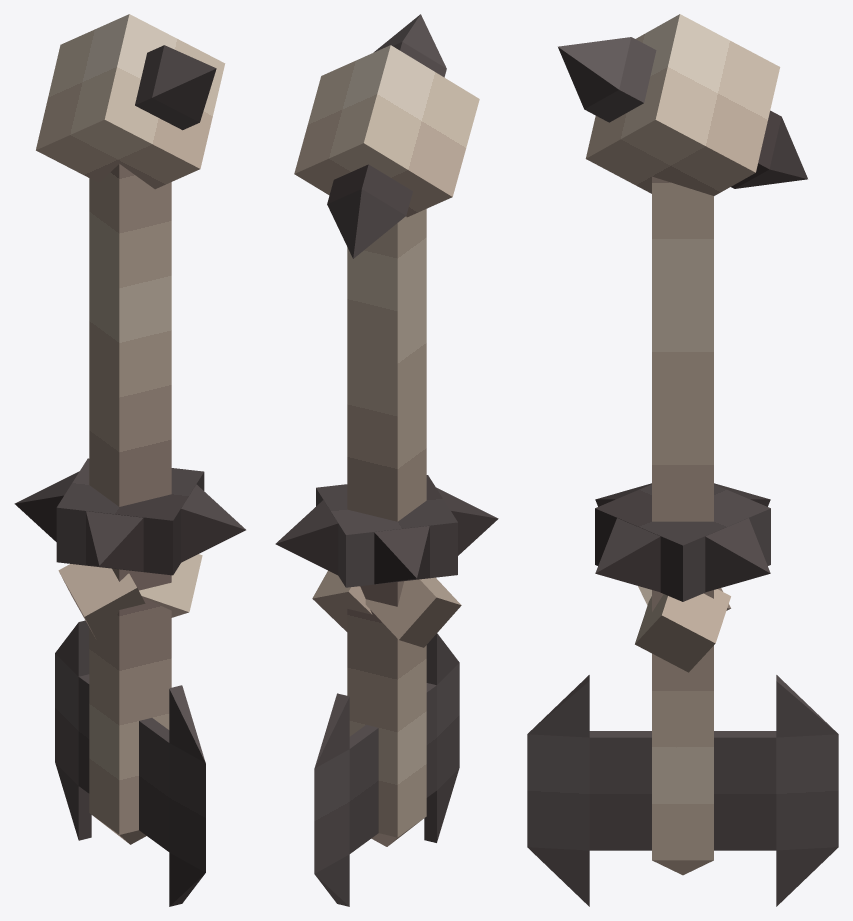
File: arm_axe_r.obj
3 views of the same model, side by side, from view 1: azimuth 30°, elevation 25°; view 2: azimuth 150°, elevation 25°; view 3: azimuth 270°, elevation 25° (orthographic). The views are drawn at different scales.
Parts seen in each view (by area): view 1: ARM_RIGHT_BONE_AXE_Cube.446; view 2: ARM_RIGHT_BONE_AXE_Cube.446; view 3: ARM_RIGHT_BONE_AXE_Cube.446.
Part boxes in pixels (box(x1,y1,x2,y2)): ARM_RIGHT_BONE_AXE_Cube.446: box(14, 14, 245, 906); ARM_RIGHT_BONE_AXE_Cube.446: box(275, 14, 498, 906); ARM_RIGHT_BONE_AXE_Cube.446: box(527, 14, 838, 906).
Size of the model in its own units: 0.1951 by 0.9832 by 0.3125.
